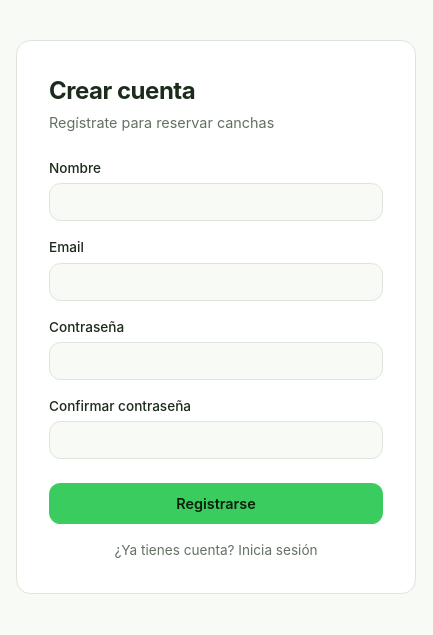
RegisterPage › shows error on short password
Type "Test" into the field labelled "Nombre".
click(216, 202); type("Test")  # box [49,183,383,221]
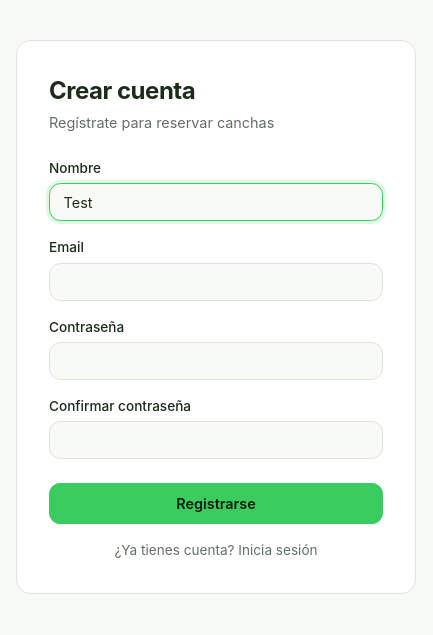
Type "test@test.com" into the field labelled "Email".
click(216, 282); type("test@test.com")  # box [49,262,383,301]
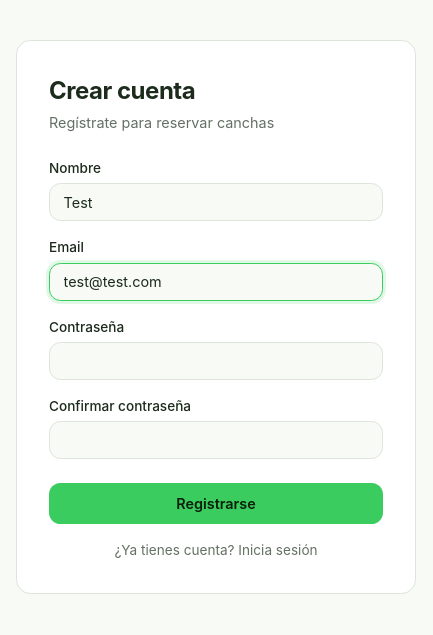
Type "12345" into the password field labelled "Contraseña".
click(216, 361); type("12345")  # box [49,342,383,380]
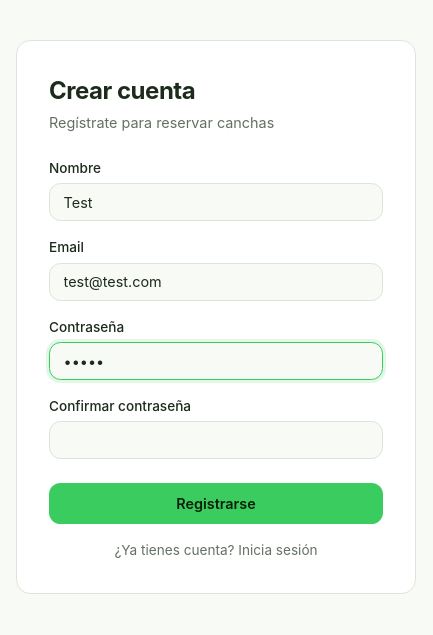
Type "12345" into the password field labelled "Confirmar contraseña".
click(216, 440); type("12345")  # box [49,421,383,460]
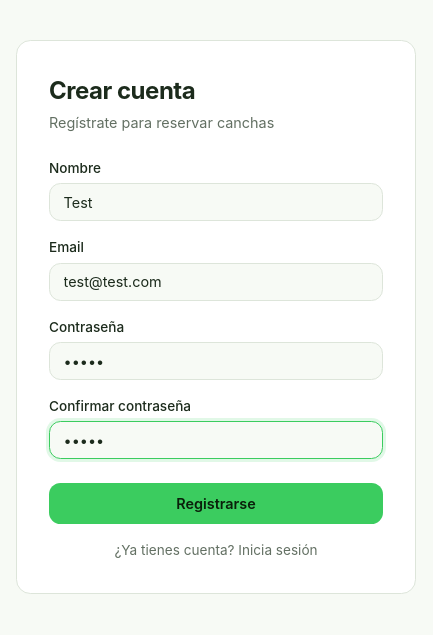
Click the button "Registrarse".
click(216, 504)  # box [49,484,383,524]
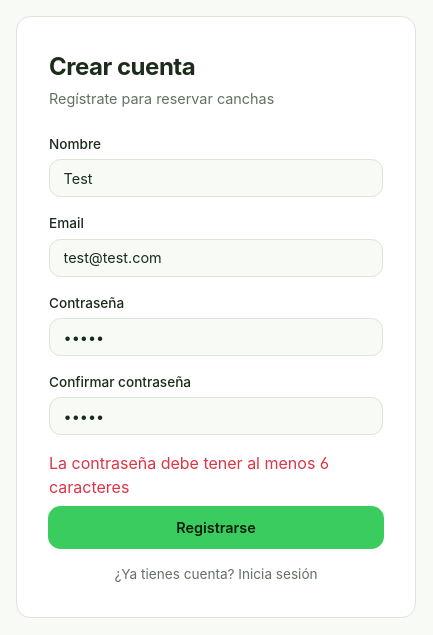
Now the text "La contraseña debe tener al menos 6 caracteres" is shown, box [49,454,329,498]
